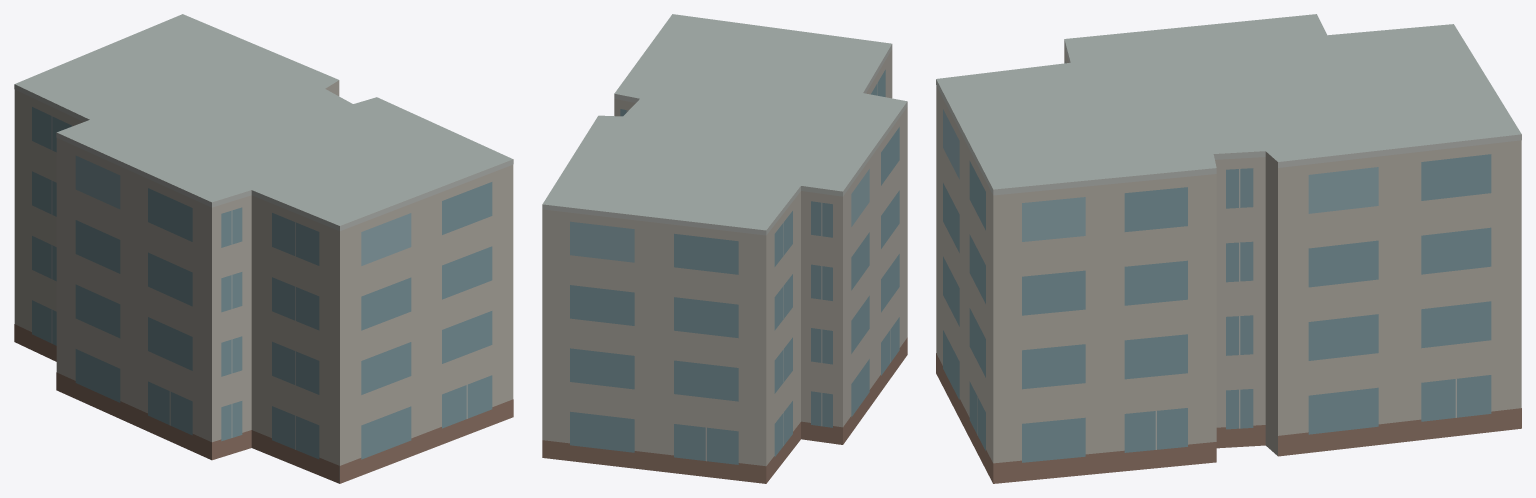
File: survey-upis-33043280.glb
The picture shows the model from 3 angles, left to right: view 1: azimuth 30°, elevation 25°; view 2: azimuth 150°, elevation 25°; view 3: azimuth 270°, elevation 25°; orthographic projection. The views are drawn at different scales.
Parts seen in each view (by area): view 1: survey-upis-33043280.tmp; view 2: survey-upis-33043280.tmp; view 3: survey-upis-33043280.tmp.
Boxes of the visible parts, box(x1,y1,x2,y2) form: survey-upis-33043280.tmp: box(14, 14, 513, 483); survey-upis-33043280.tmp: box(542, 14, 907, 483); survey-upis-33043280.tmp: box(936, 14, 1521, 483).
Bounding box in the file's own units: 15.49 × 12.1 × 21.83.
